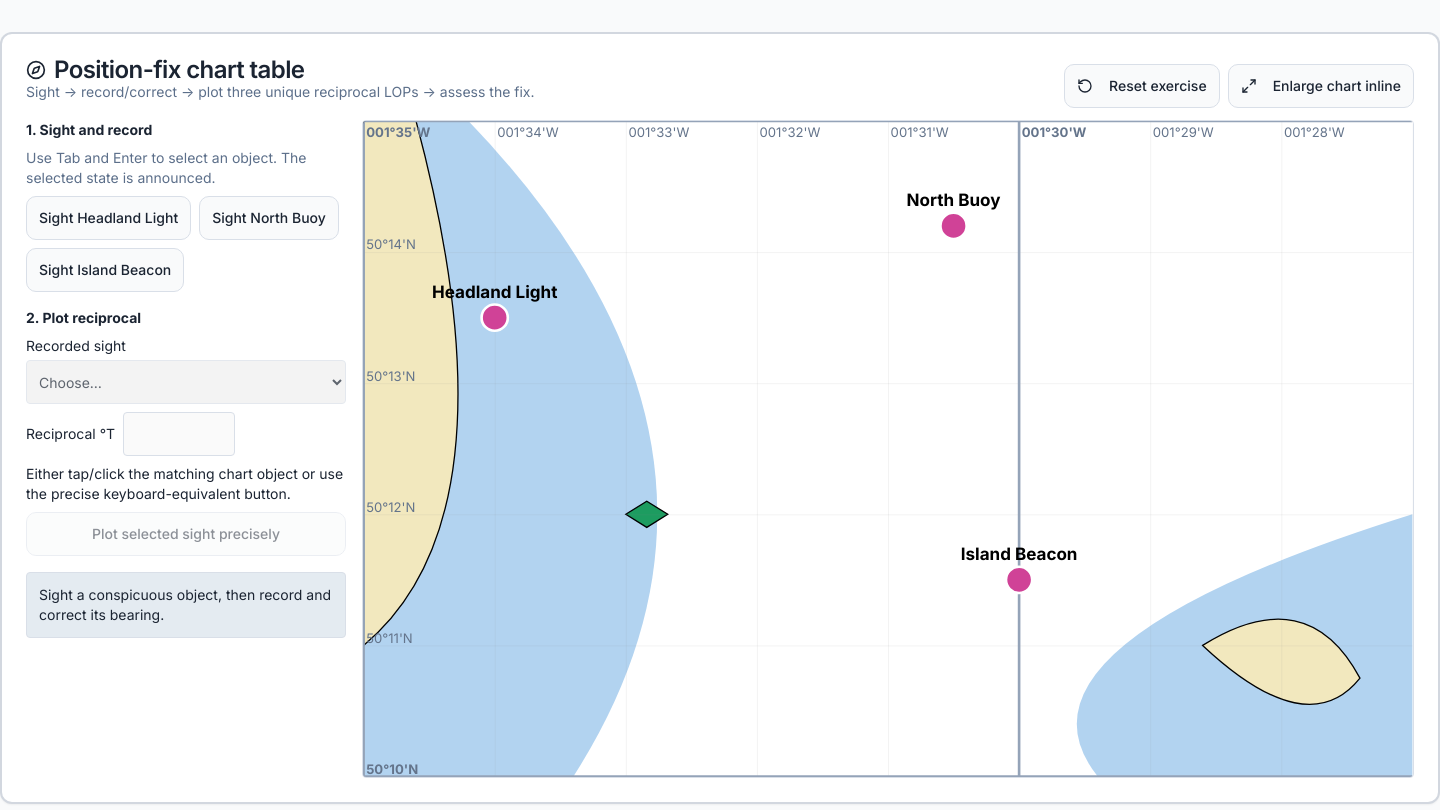
Scenario: UnifiedChartTable › rejects the forward bearing and gives actionable reciprocal feedback
The width and height of the screenshot is (1440, 810).
Click the button "Sight Headland Light".
click(109, 218)  # box [26,196,191,240]
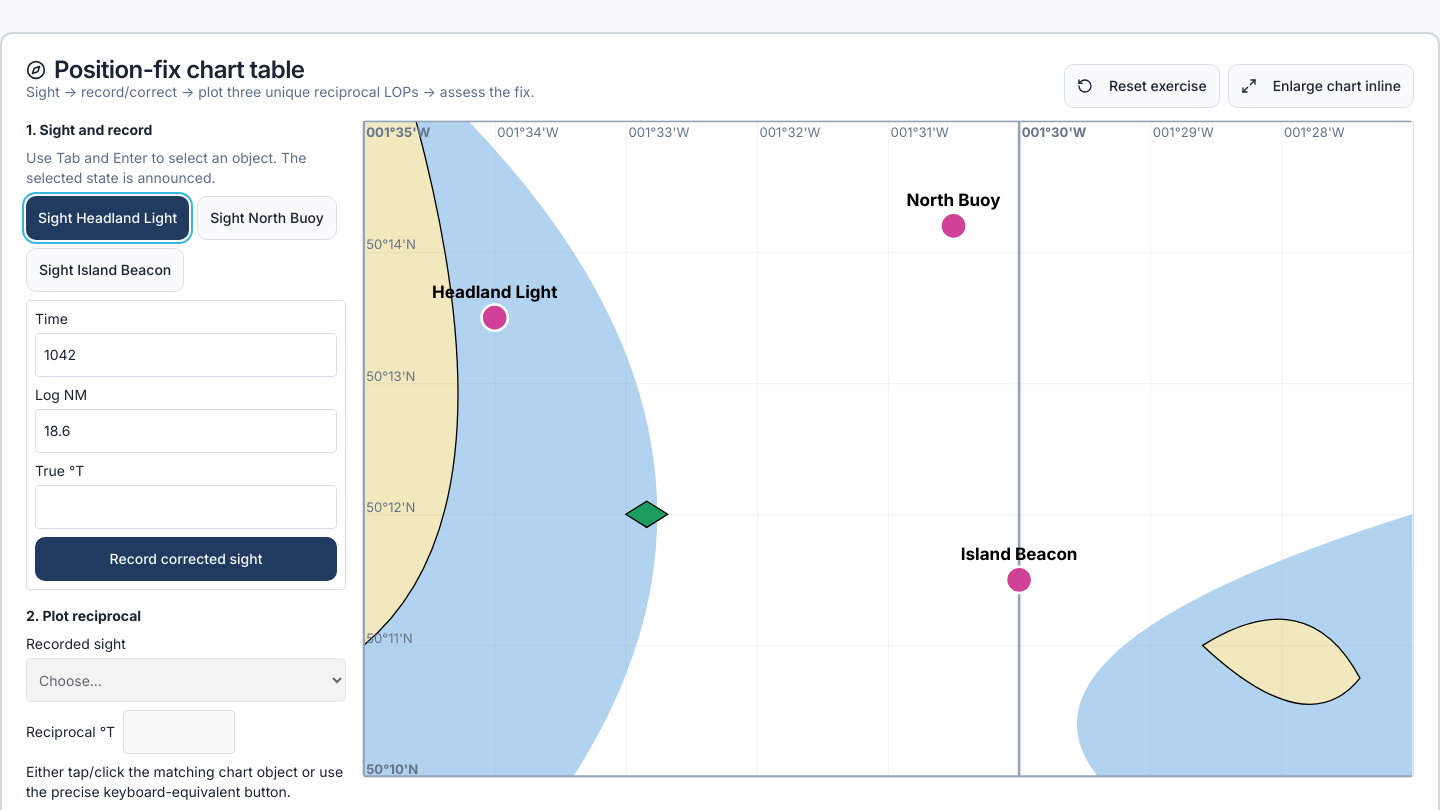
Type "306.9" into the field named "Corrected true bearing".
click(186, 507); type("306.9")  # box [35,485,337,529]
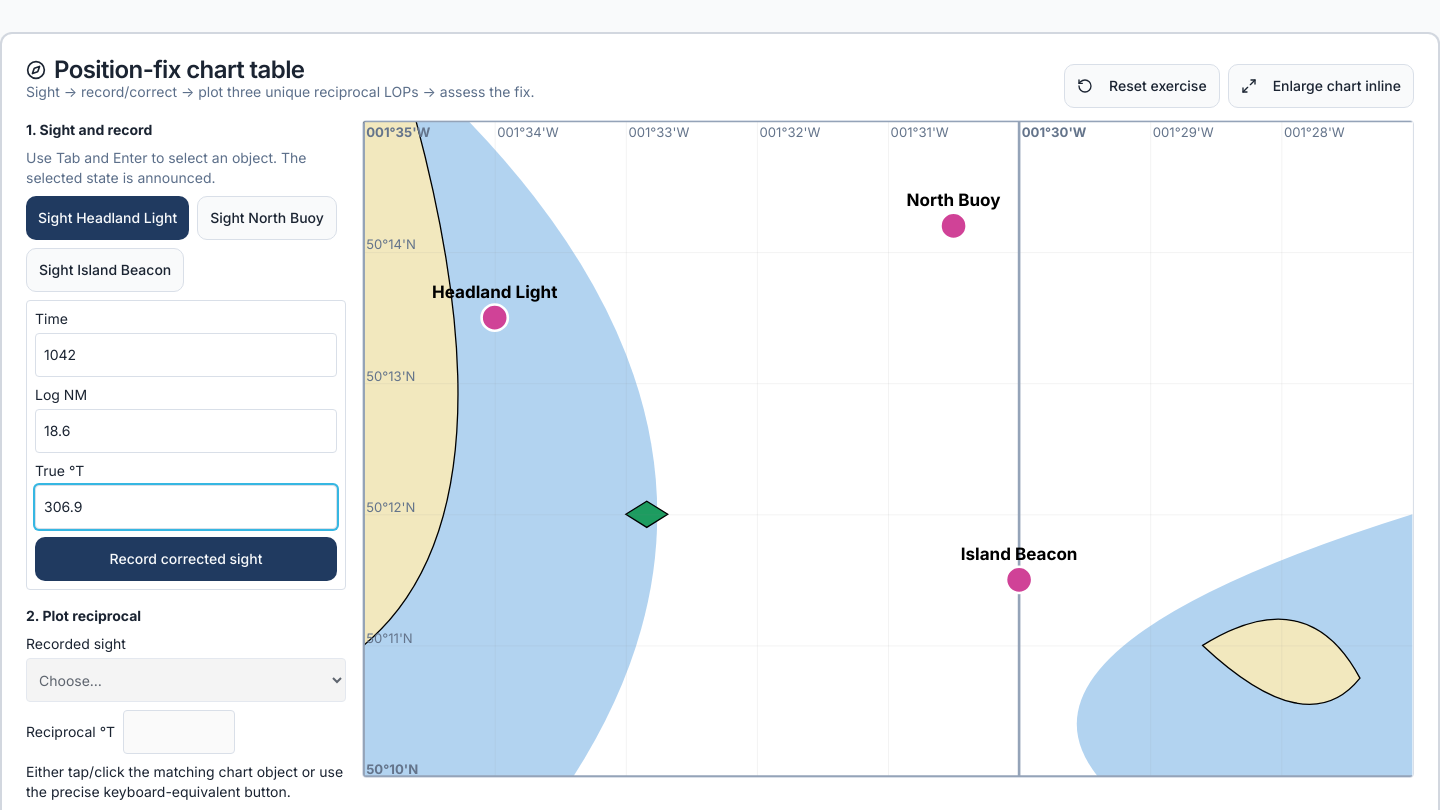
Click the button "Record corrected sight".
click(186, 559)  # box [35,537,337,581]
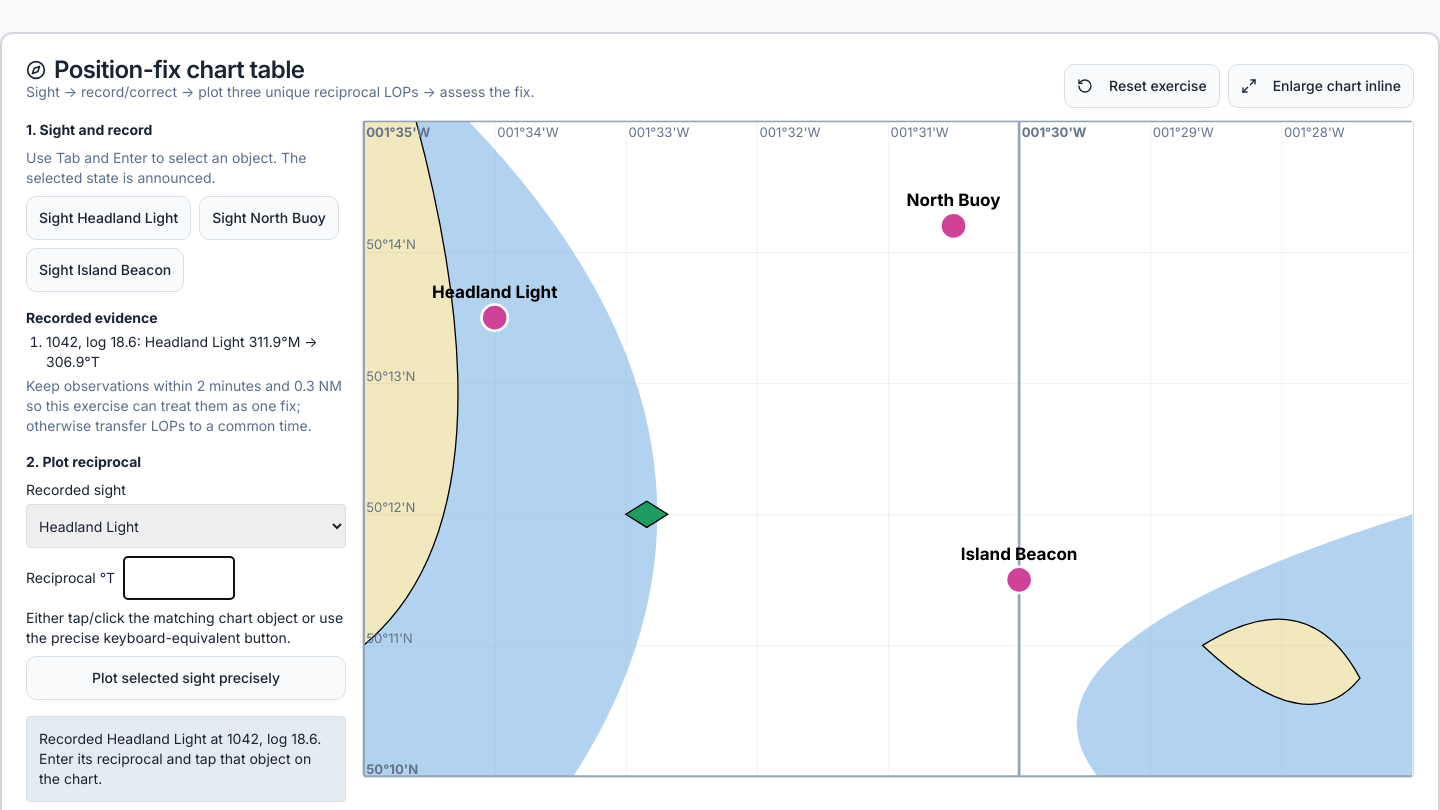
Type "306.9" into the field named "Reciprocal bearing".
click(179, 578); type("306.9")  # box [123,556,235,600]
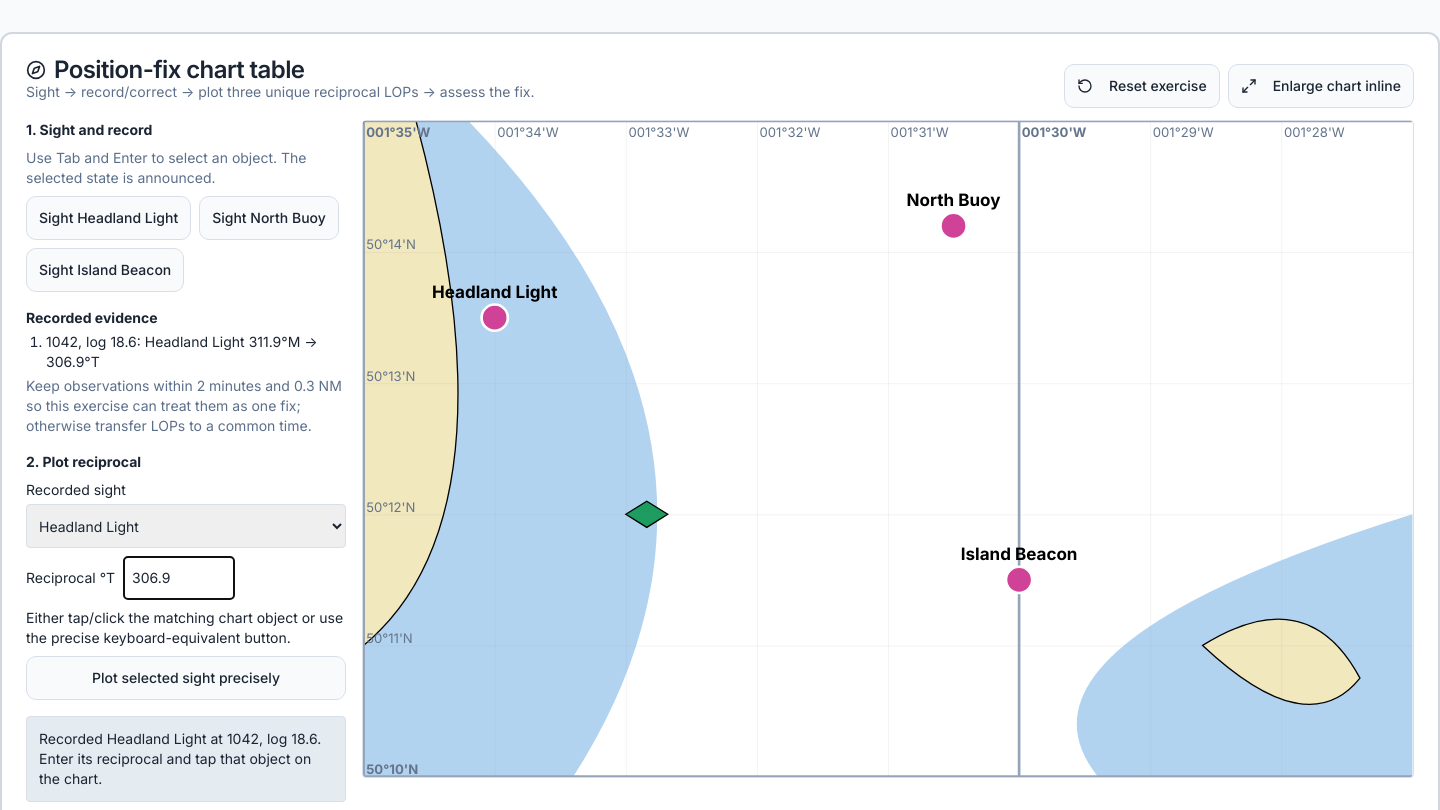
Click the picture named "Position-fix practice chart".
click(888, 449)  # box [363,121,1413,776]
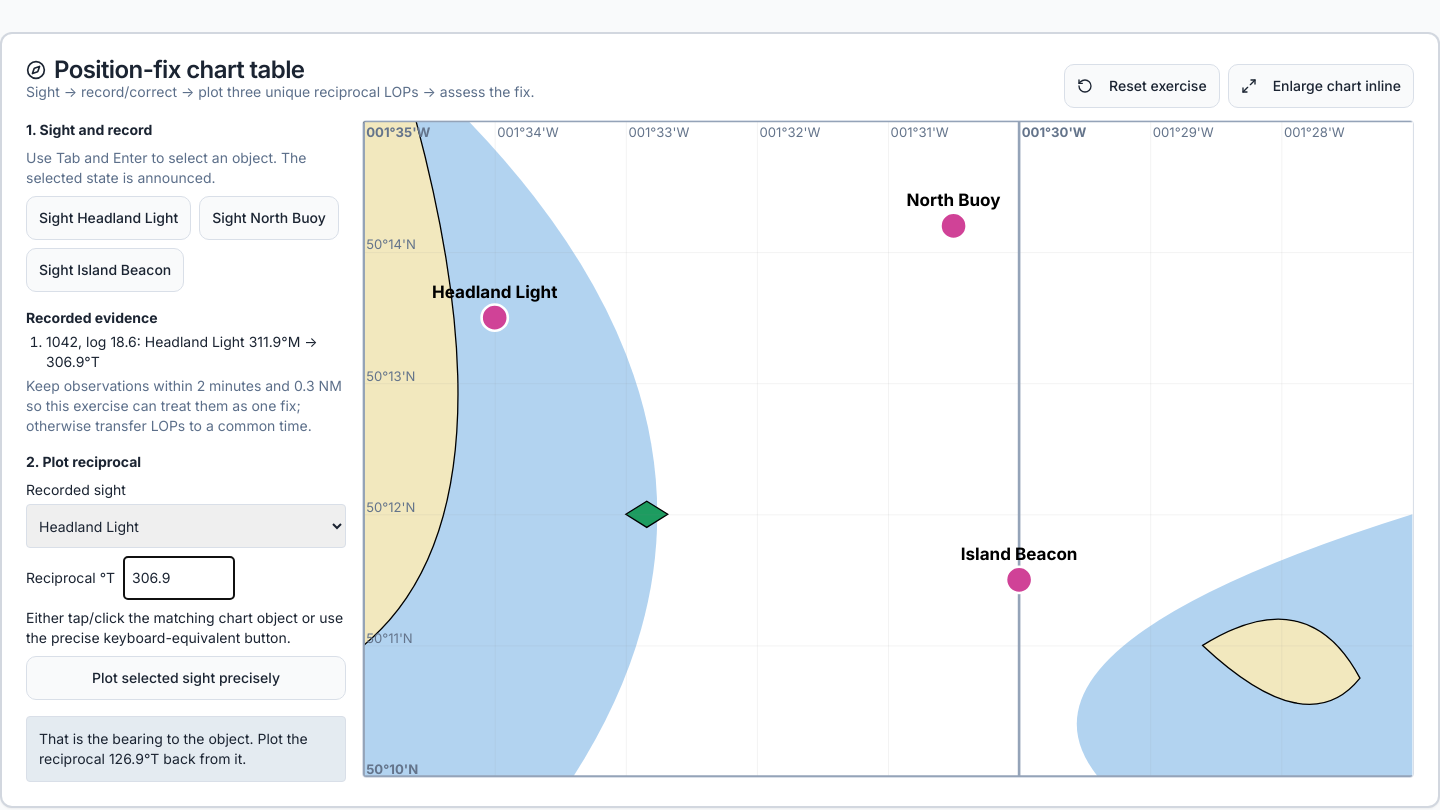
Expected: the text "That is the bearing to the object. Plot the reciprocal 126.9°T back from it." is shown, [26,716,346,782]
